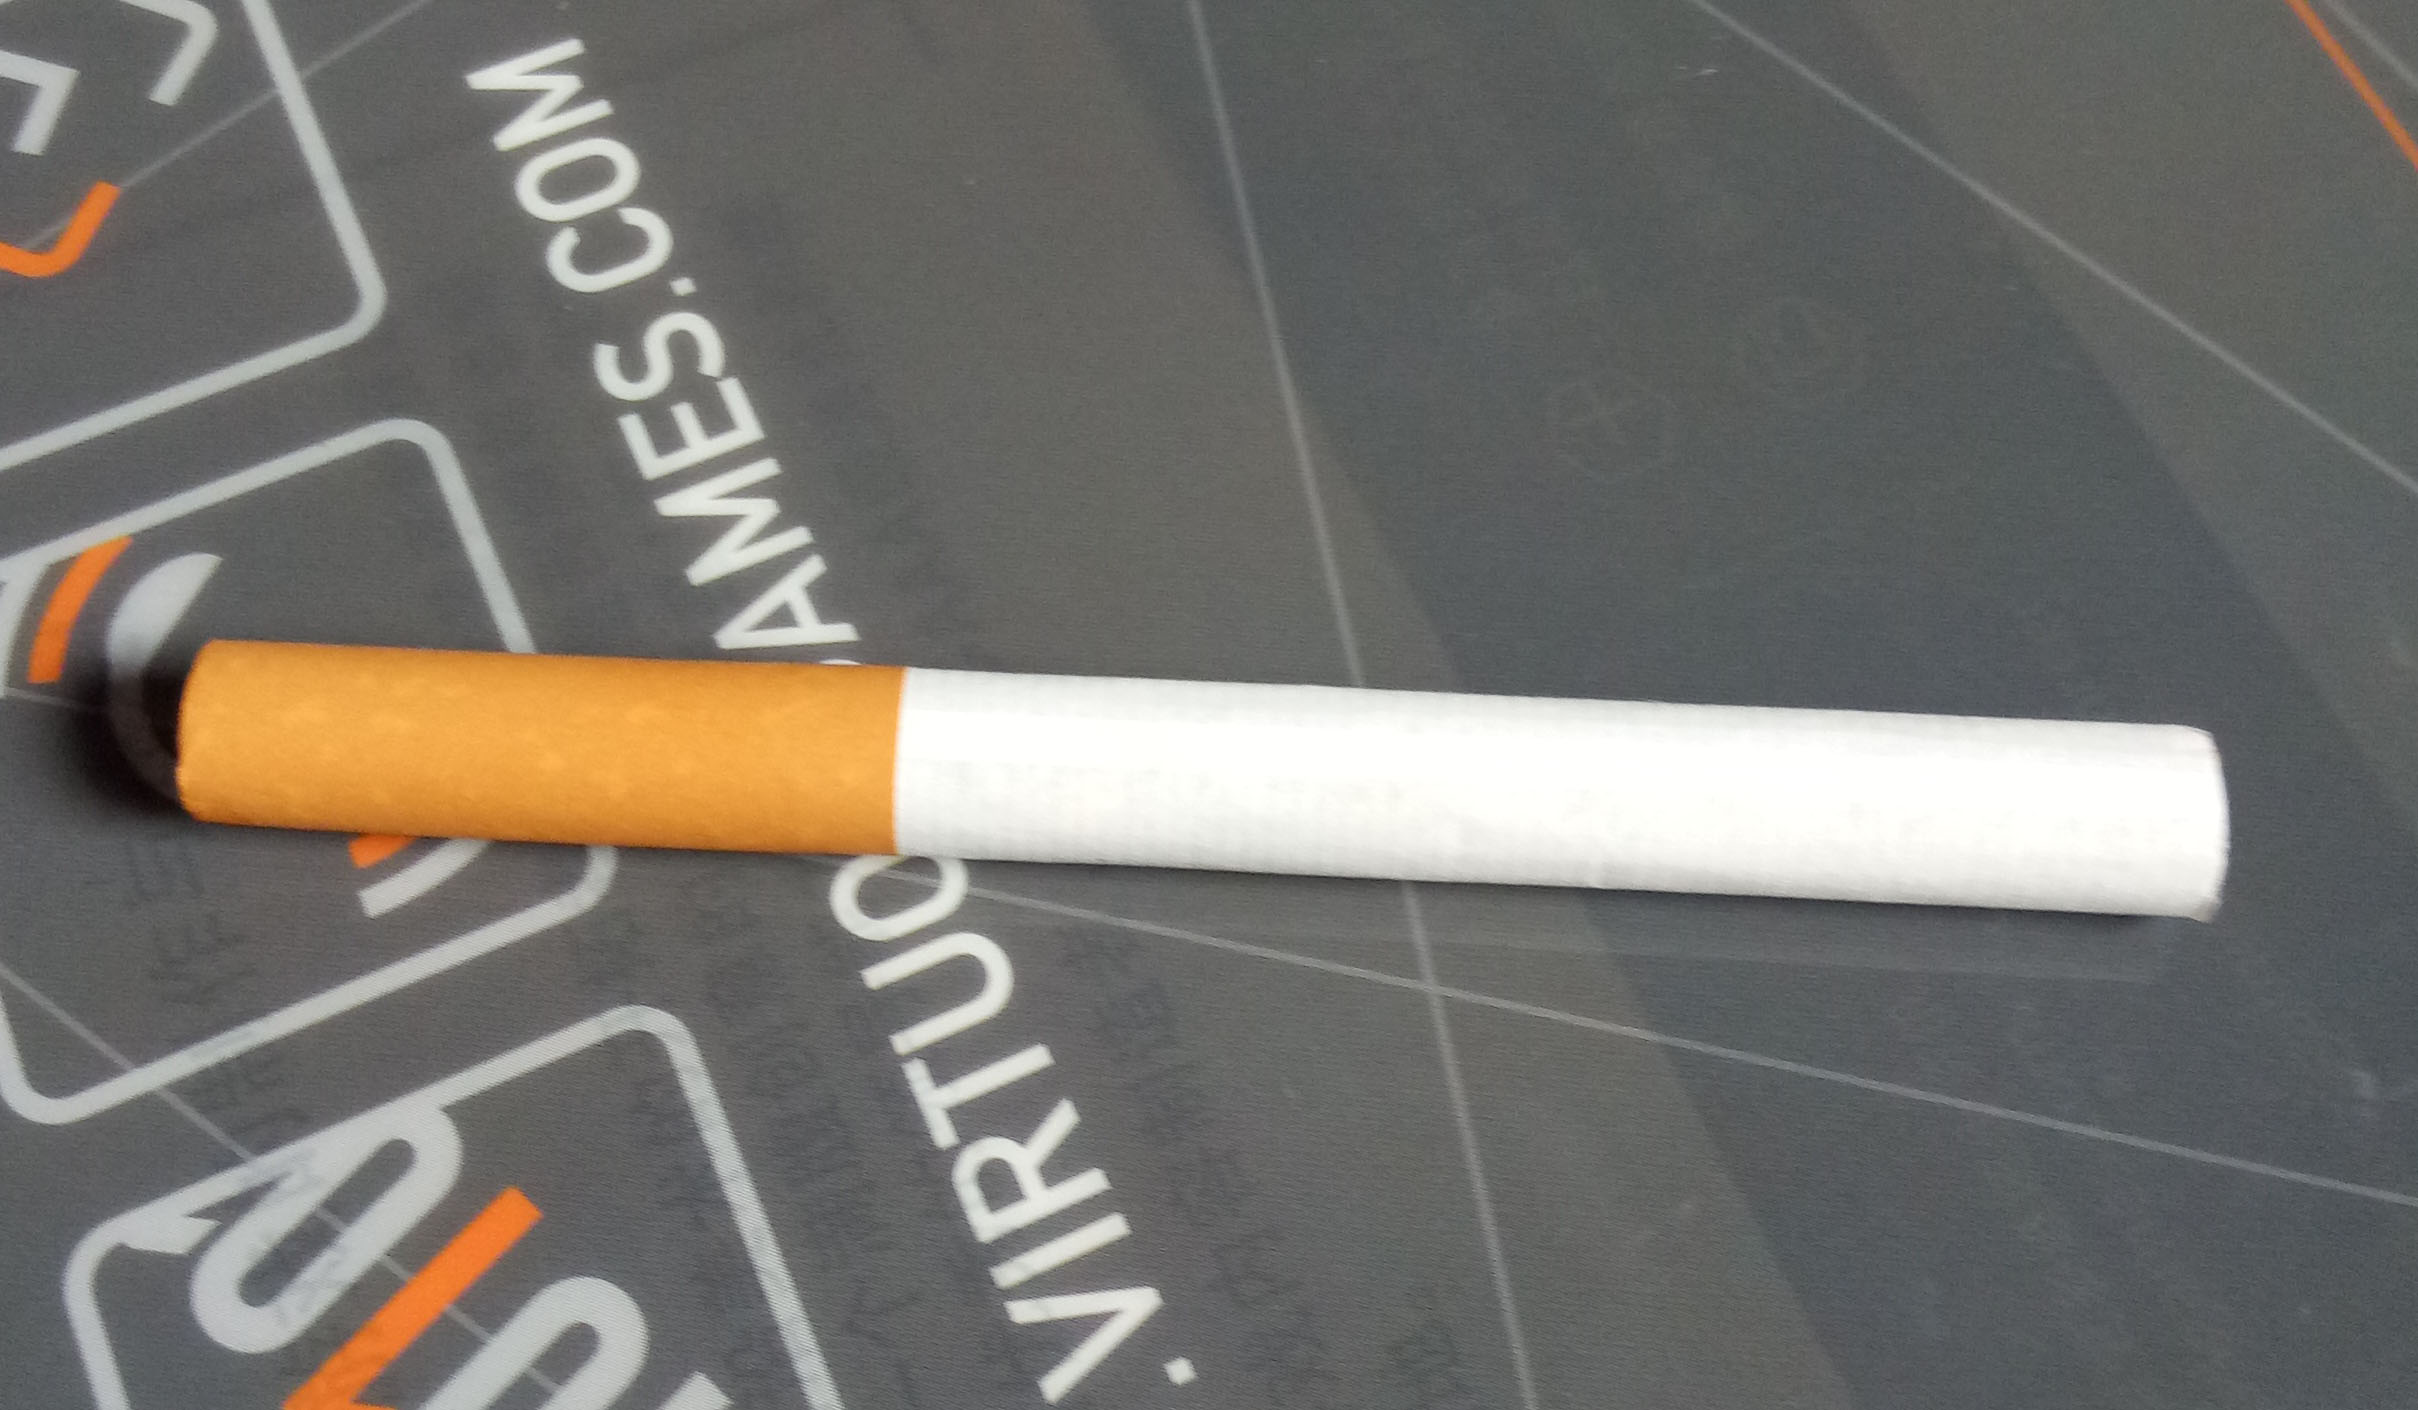cigarette: (151, 606, 2242, 952)
